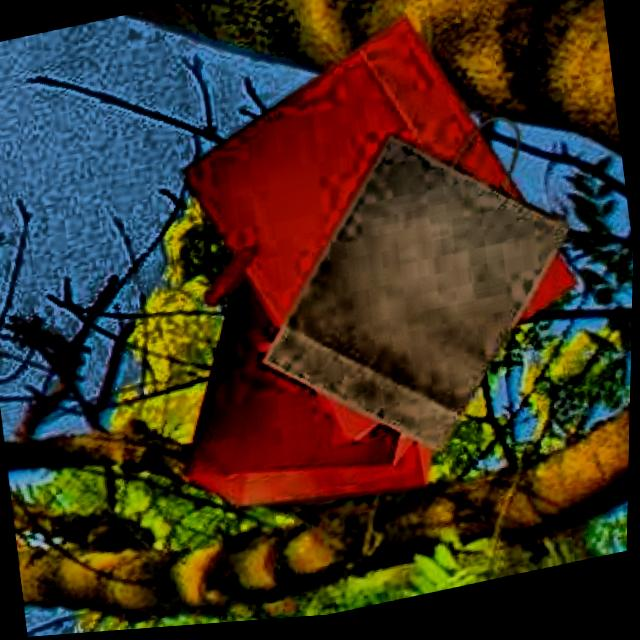Paper-bag: (146, 0, 607, 490), (219, 86, 618, 505), (155, 221, 464, 545)
